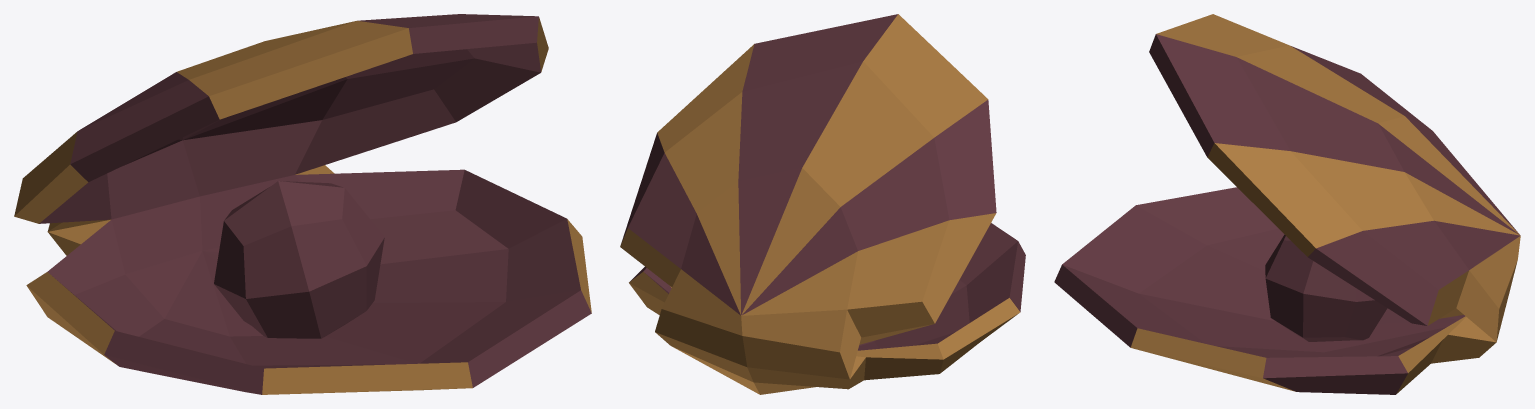
Rendered from clam-pearl.fbx.
The picture shows the model from 3 angles, left to right: view 1: azimuth 30°, elevation 25°; view 2: azimuth 150°, elevation 25°; view 3: azimuth 270°, elevation 25°; orthographic projection. The views are drawn at different scales.
Parts seen in each view (by area): view 1: clam-pearl; view 2: clam-pearl; view 3: clam-pearl.
Boxes of the visible parts, bbox=[...] form: clam-pearl: bbox=[14, 14, 591, 394]; clam-pearl: bbox=[620, 14, 1025, 394]; clam-pearl: bbox=[1054, 14, 1520, 394].
Bounding box in the file's own units: 0.1896 × 0.1482 × 0.2014.
